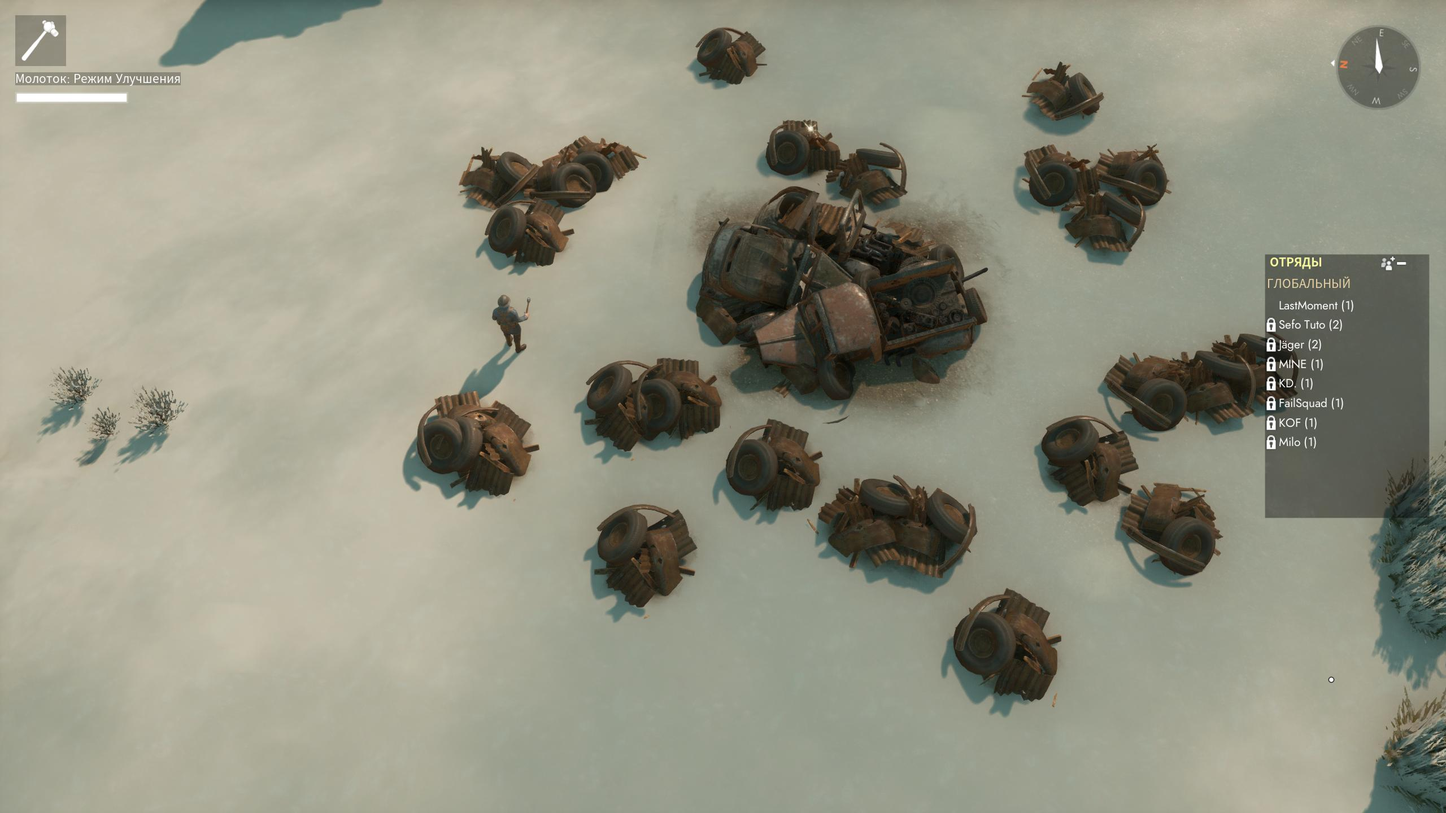player: (492, 295, 528, 352)
scrap_pile: (1023, 145, 1168, 252), (820, 480, 977, 576), (585, 358, 721, 451), (417, 392, 539, 495), (953, 590, 1061, 700), (595, 505, 696, 607), (1122, 483, 1221, 575), (724, 419, 822, 510), (1041, 416, 1138, 505), (543, 136, 646, 207), (485, 193, 573, 265), (1105, 356, 1186, 430), (828, 143, 906, 204), (1026, 63, 1103, 120), (765, 120, 843, 174), (460, 150, 532, 208), (698, 28, 766, 84)
terrain: (695, 187, 986, 399)
